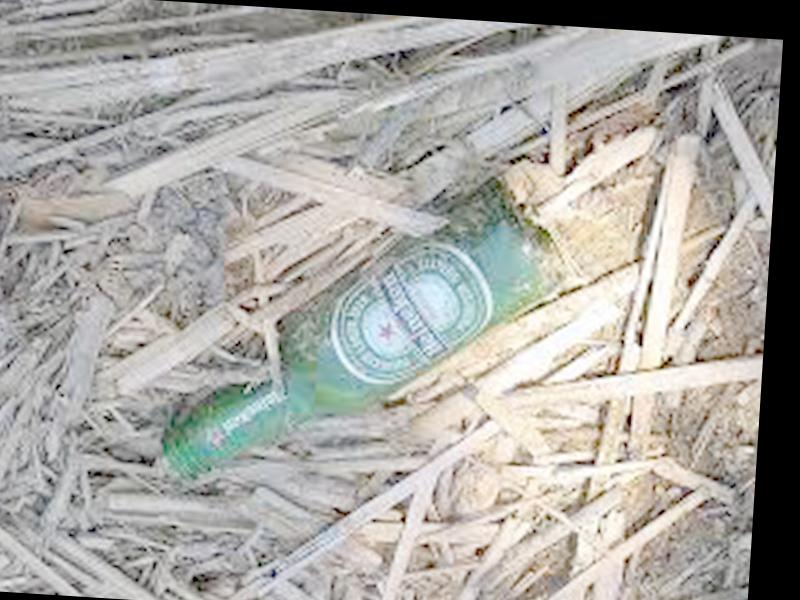Beer: (154, 162, 569, 498)
